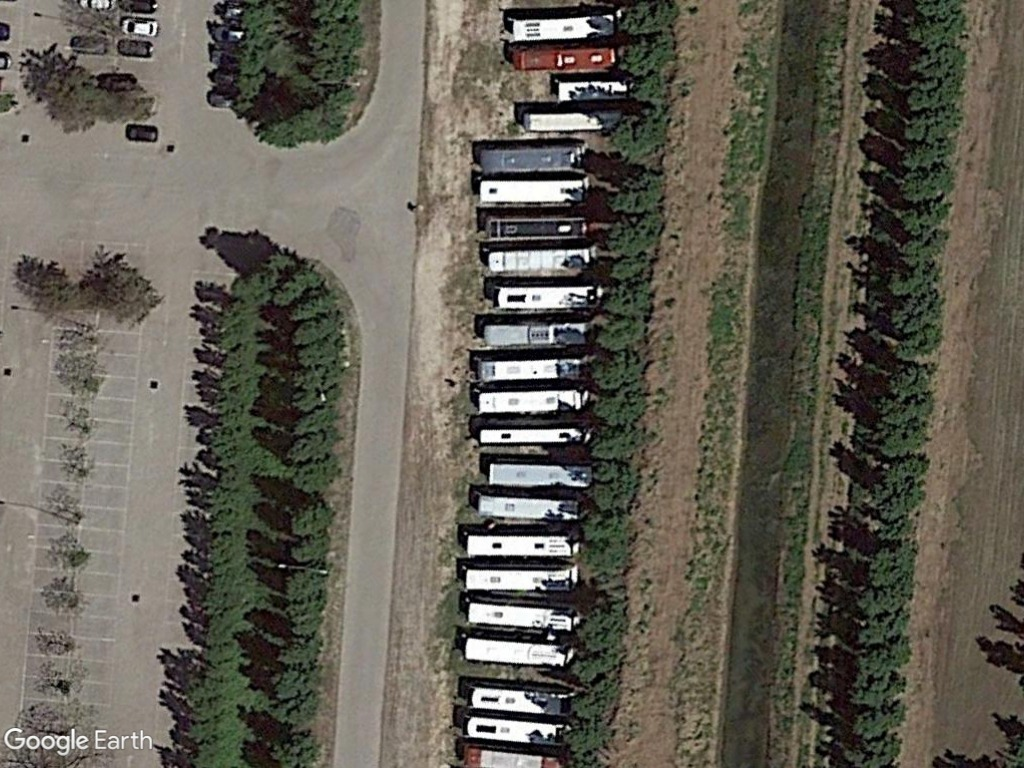bus: (461, 677, 583, 718), (463, 598, 581, 638), (471, 488, 598, 525), (461, 526, 586, 562), (458, 634, 579, 671), (482, 455, 598, 492), (456, 715, 578, 750), (472, 351, 592, 386), (476, 315, 592, 349), (472, 141, 591, 174), (506, 10, 621, 44), (478, 211, 593, 245), (482, 241, 596, 275), (473, 177, 595, 208), (471, 389, 592, 420), (506, 47, 626, 78), (460, 566, 585, 595), (518, 104, 638, 134), (489, 283, 605, 312)
car: (117, 13, 162, 38)
